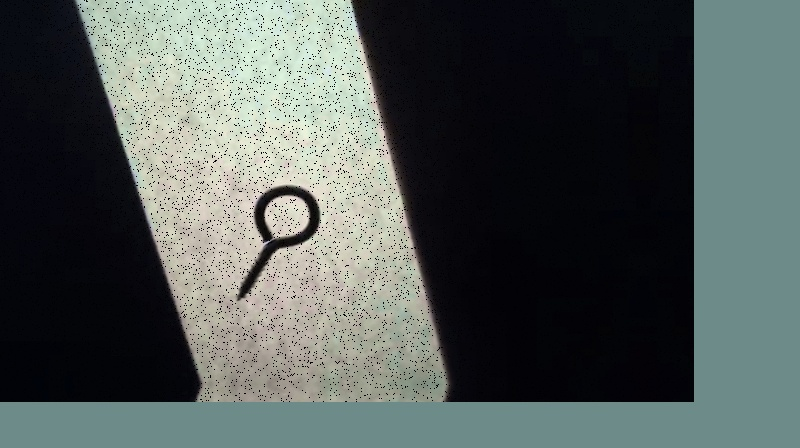O001: (229, 177, 323, 305)
